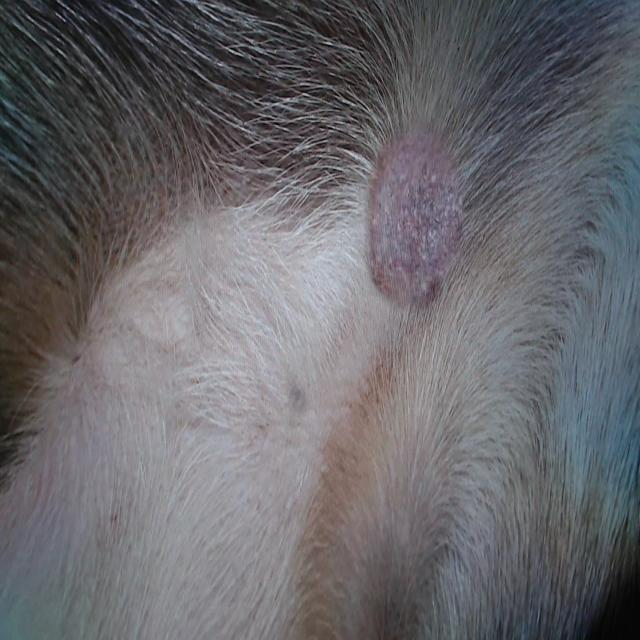ringworm: (349, 113, 494, 333)
